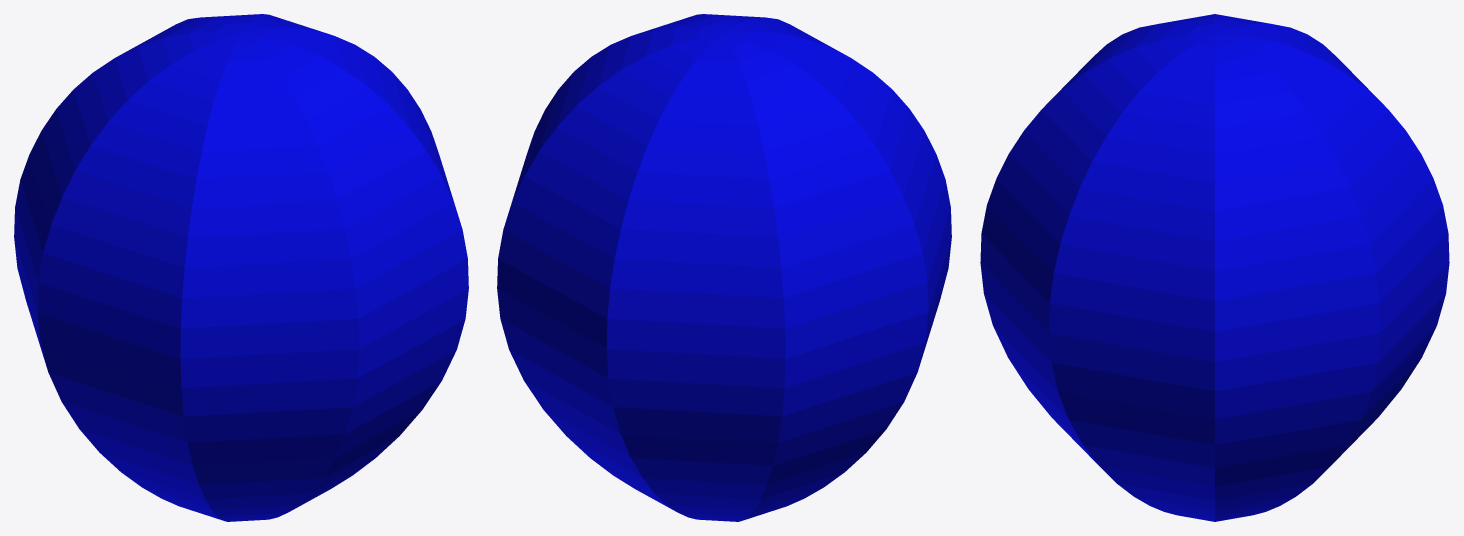
File: balloon.glb
The picture shows the model from 3 angles, left to right: view 1: azimuth 30°, elevation 25°; view 2: azimuth 150°, elevation 25°; view 3: azimuth 270°, elevation 25°; orthographic projection.
Visible parts, largest first — view 1: balloon; view 2: balloon; view 3: balloon.
Part boxes in pixels (box(x1,y1,x2,y2)): balloon: box(14, 14, 468, 521); balloon: box(497, 14, 951, 521); balloon: box(980, 14, 1449, 521).
Bounding box in the file's own units: 3.55 × 3.96 × 3.55.
